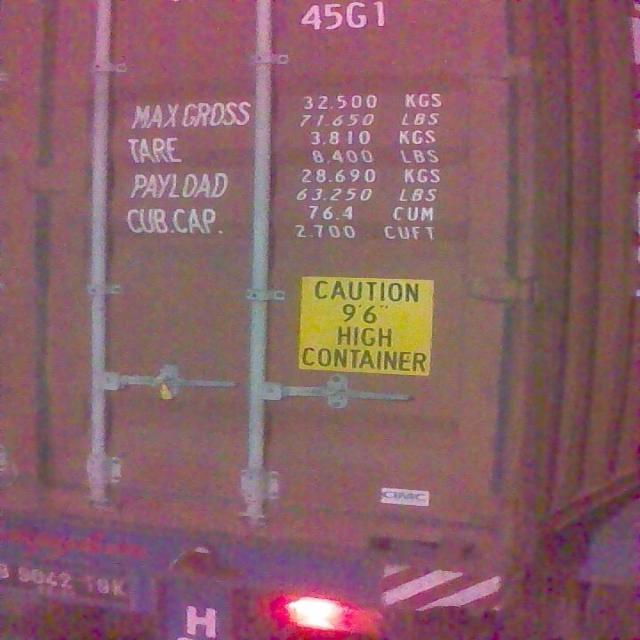seal: (151, 372, 190, 401)
